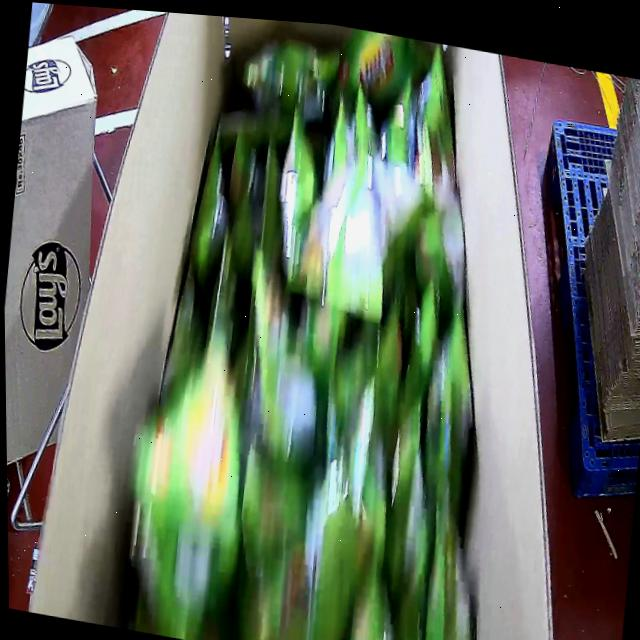YOGURT_HERB: (105, 8, 538, 640)
